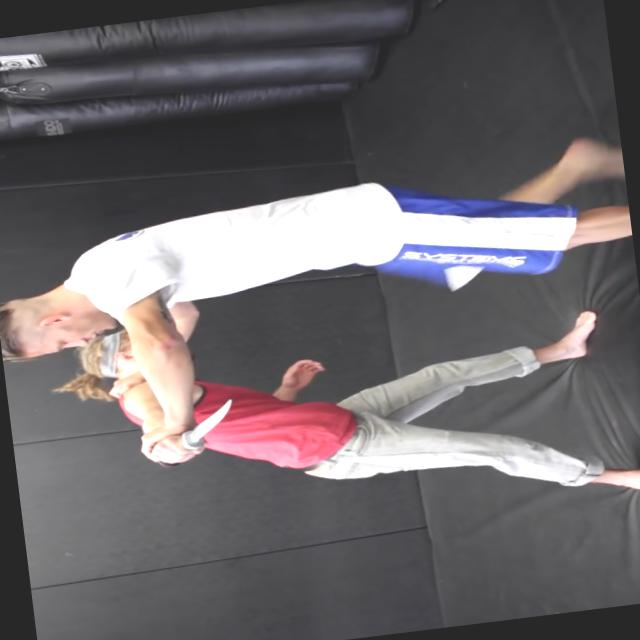knife: (140, 391, 248, 474)
